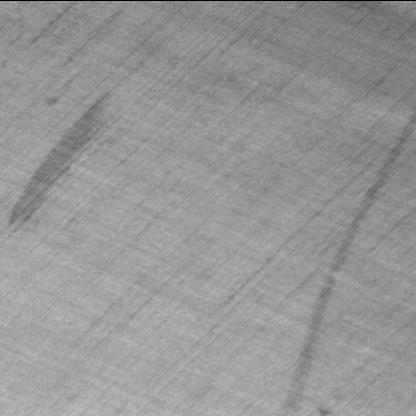oil spot: (278, 114, 416, 415), (4, 88, 113, 236)
